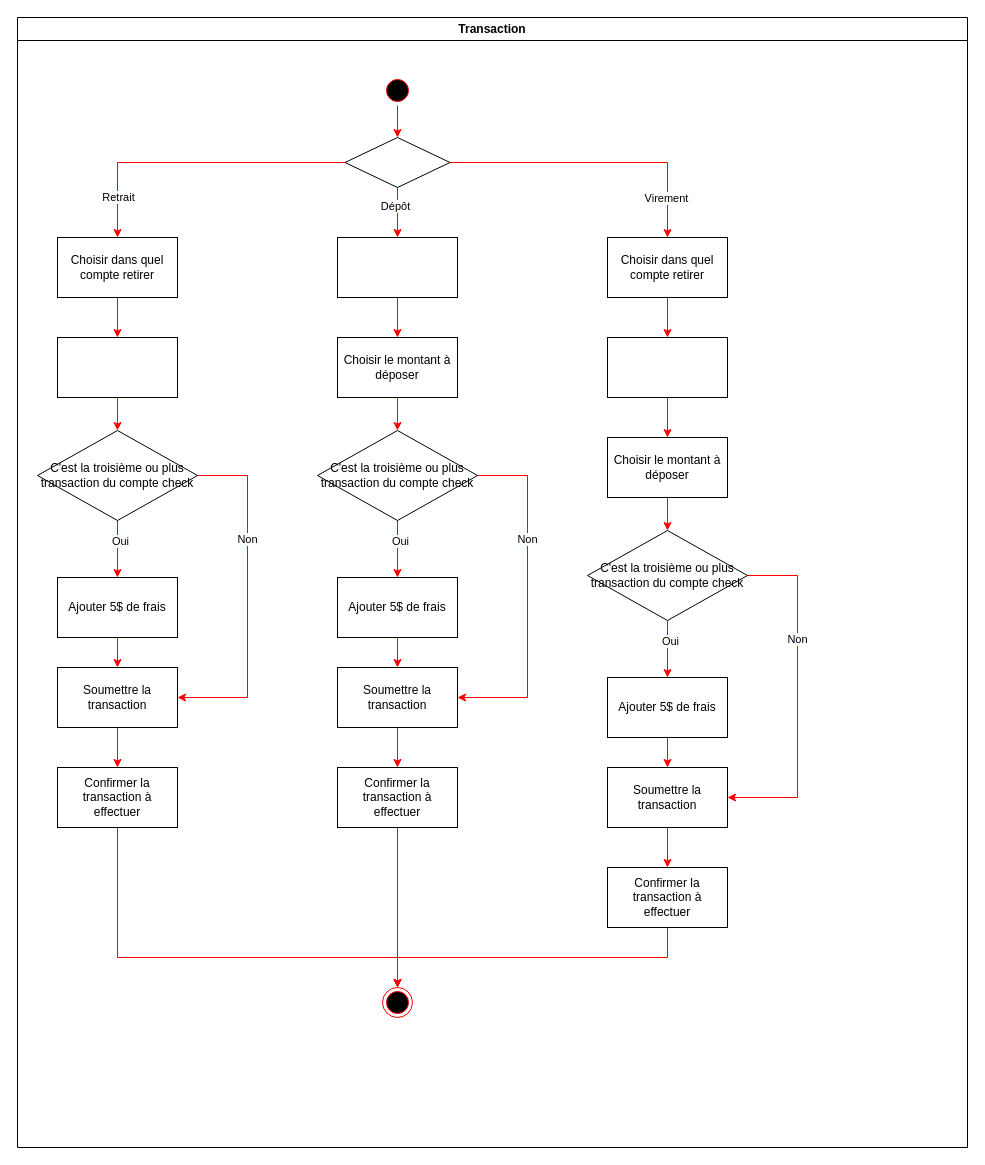
Some shapes in this 985 by 1165 pixel diagram are drawn without their labels. The centre of each missing label's shape, as x and y in pixels:
Choisir dans quel compte déposer: point 397,267
Choisir le montant à retirer: point 117,367
Choisir quel compte déposer: point 667,367
Type de transaction: point 397,162
